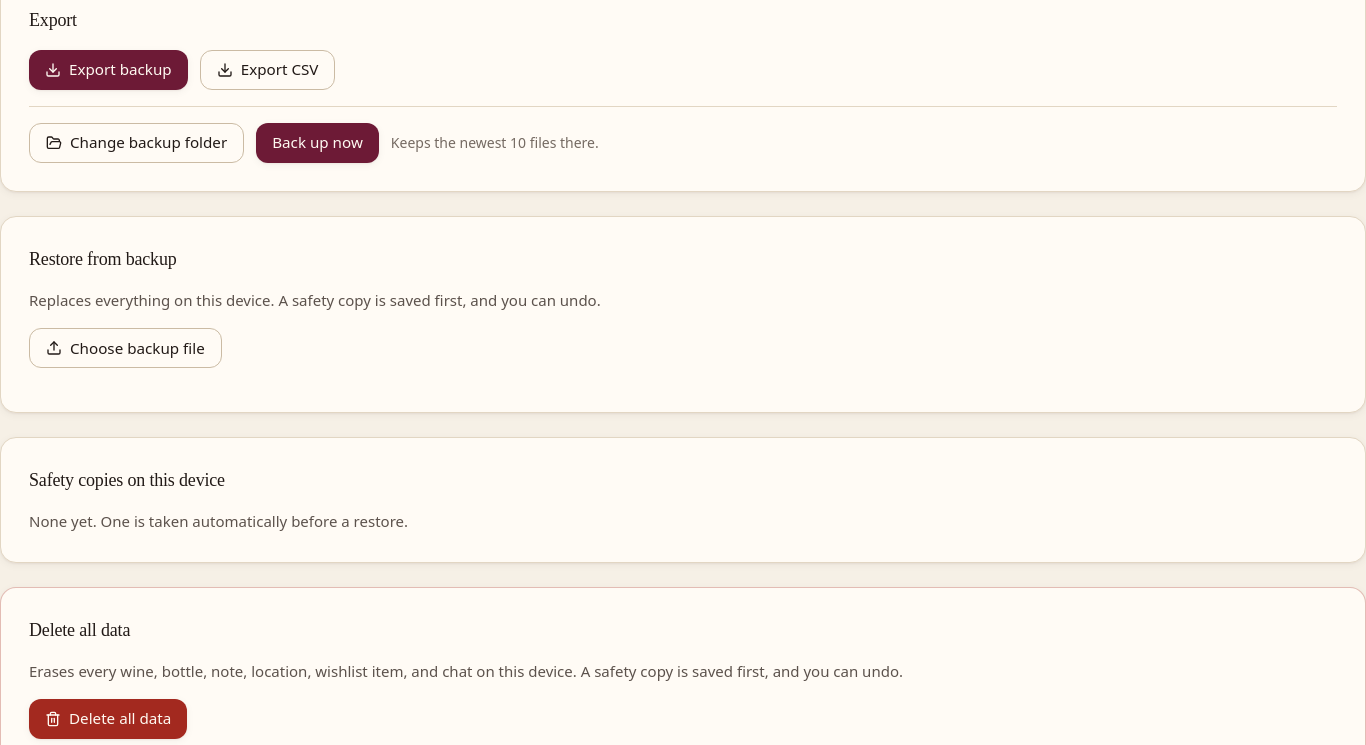
Test: BackupPage › deletes all data after typing DELETE, and lists the safety snapshot taken first
This screenshot has width=1366, height=745.
(page scrolled)
Click the button "Delete all data".
click(108, 719)  # box [29,699,187,739]
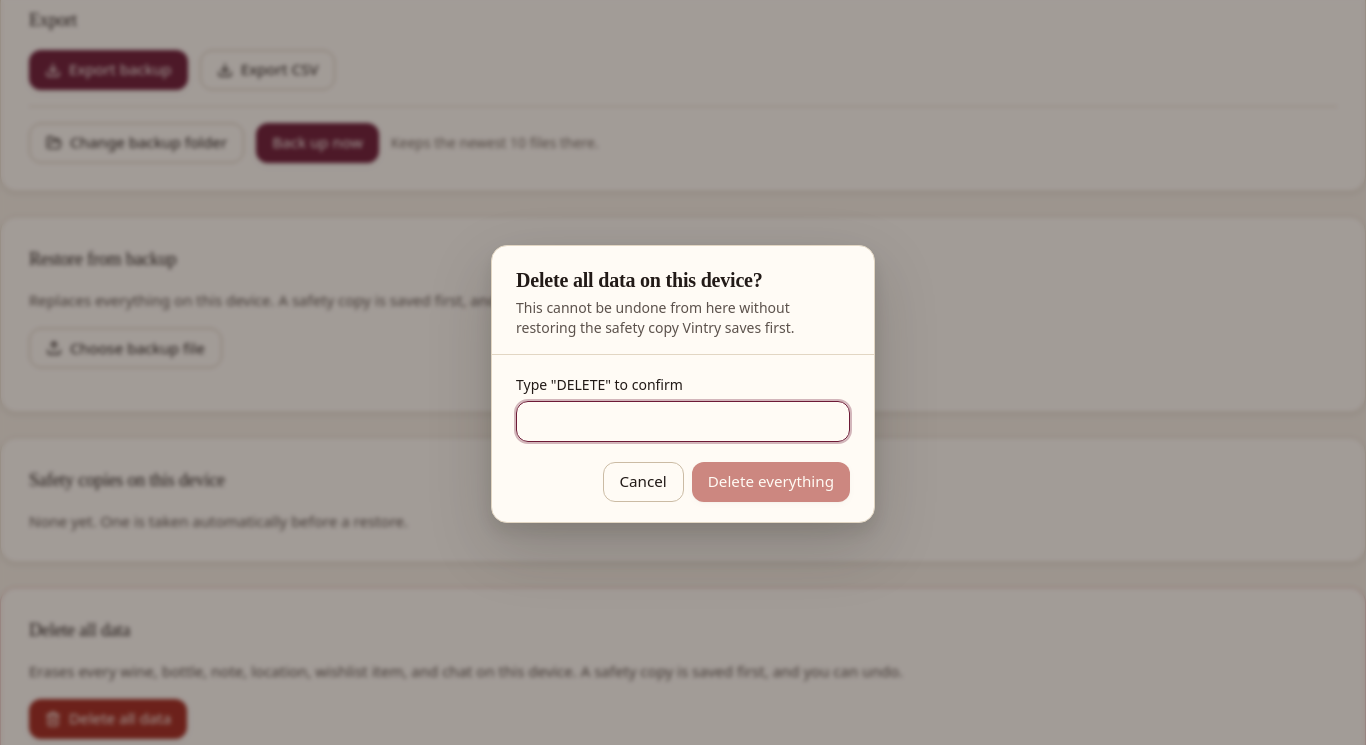
Result: the heading "Delete all data on this device?" is shown at [516,269,762,291]
Result: the button "Delete everything" is disabled at [692,462,850,502]
Type "DELETE" into the field labelled "Type \"DELETE\" to confirm".
click(683, 421); type("DELETE")  # box [516,401,850,442]
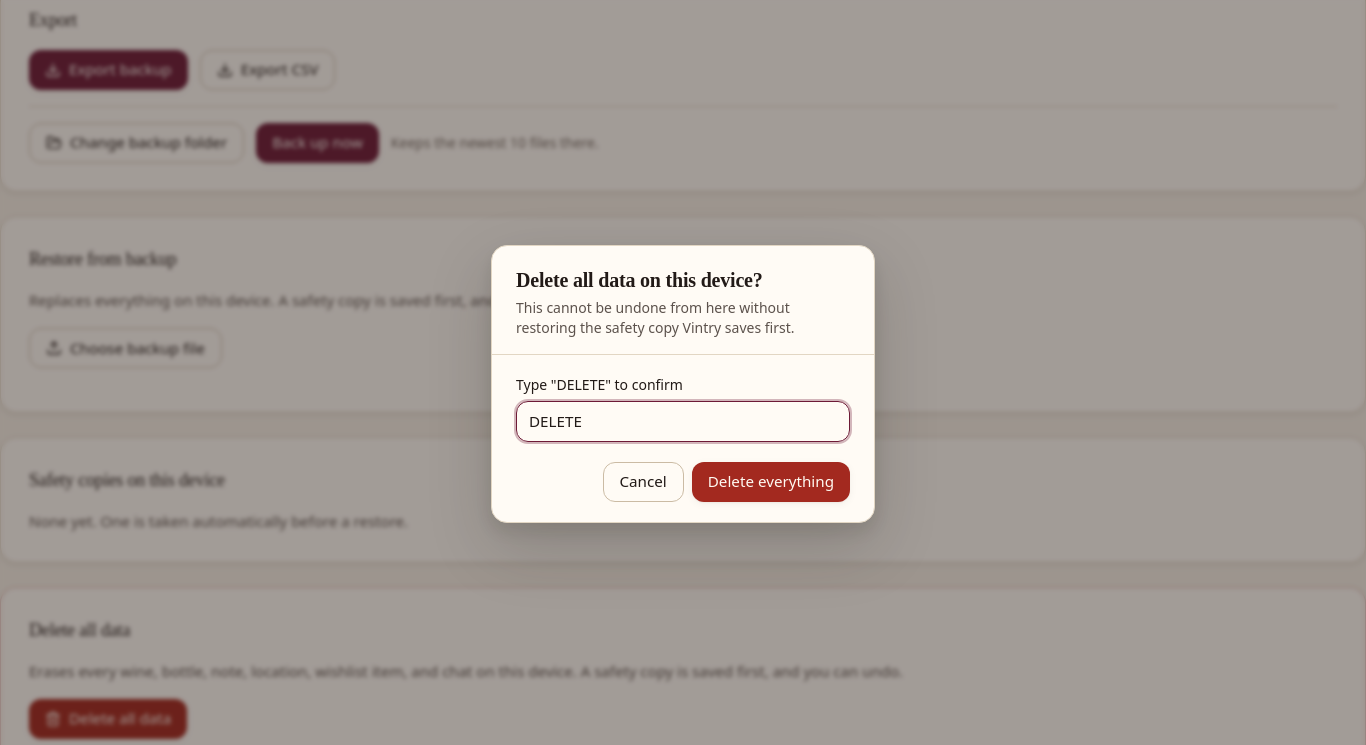
Click the button "Delete everything".
click(771, 482)  # box [692,462,850,502]
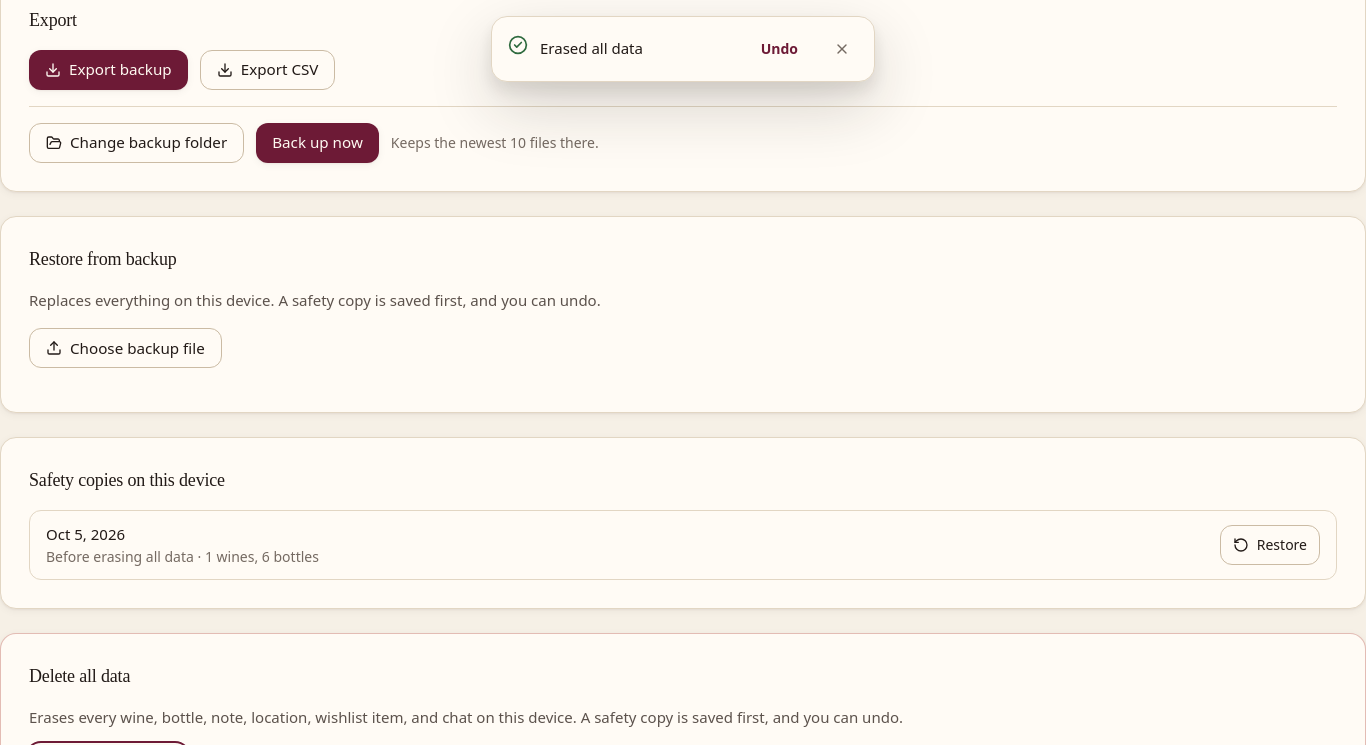
Result: the text "Before erasing all data · 1 wines, 6 bottles" is shown at [46,547,319,567]
